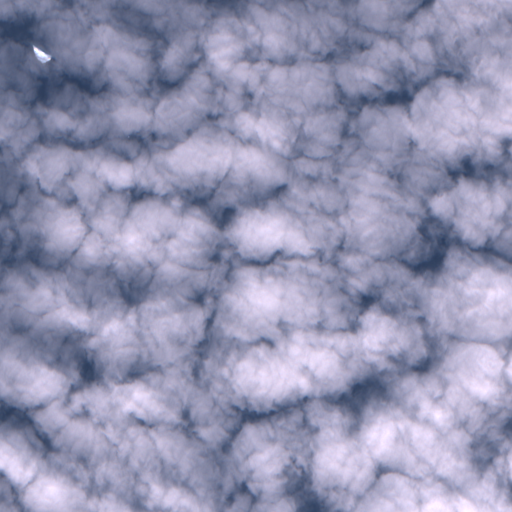Iceberg: (33, 46, 50, 62)
